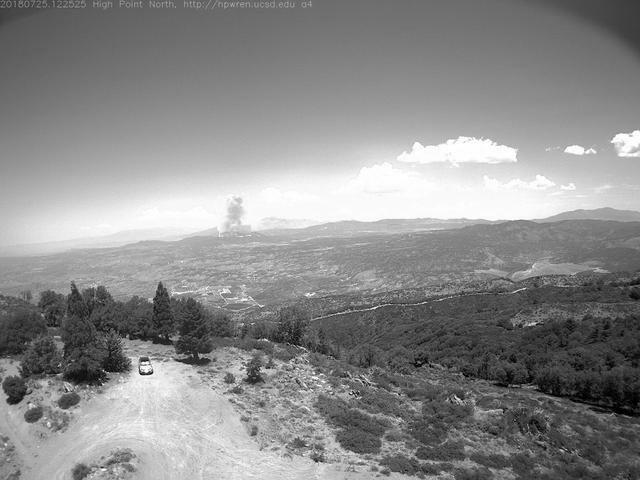smoke: (217, 196, 252, 239)
